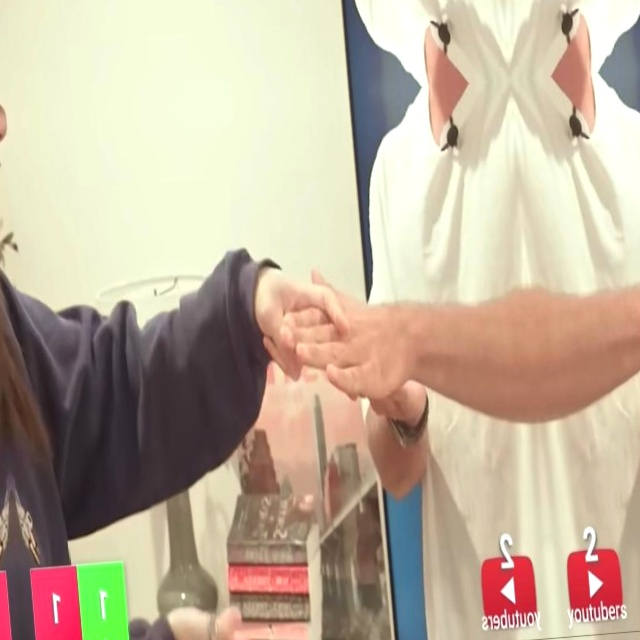Paper: (279, 256, 425, 413)
Scissors: (257, 263, 344, 377)
